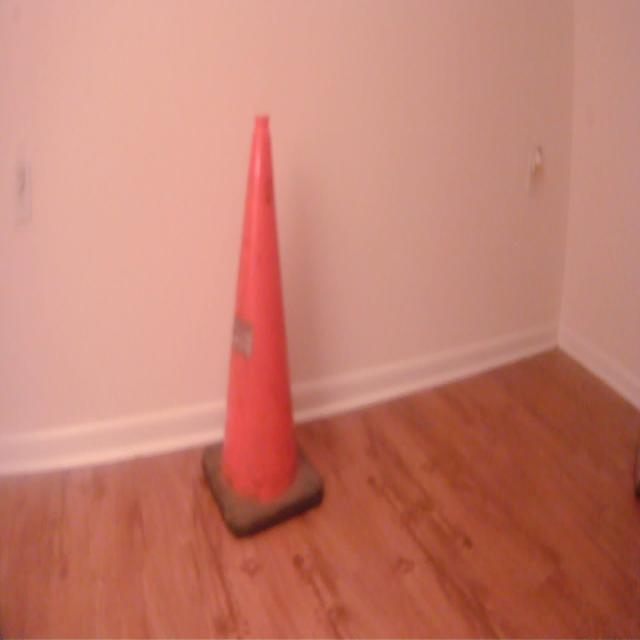traffic cone: (197, 107, 329, 552)
